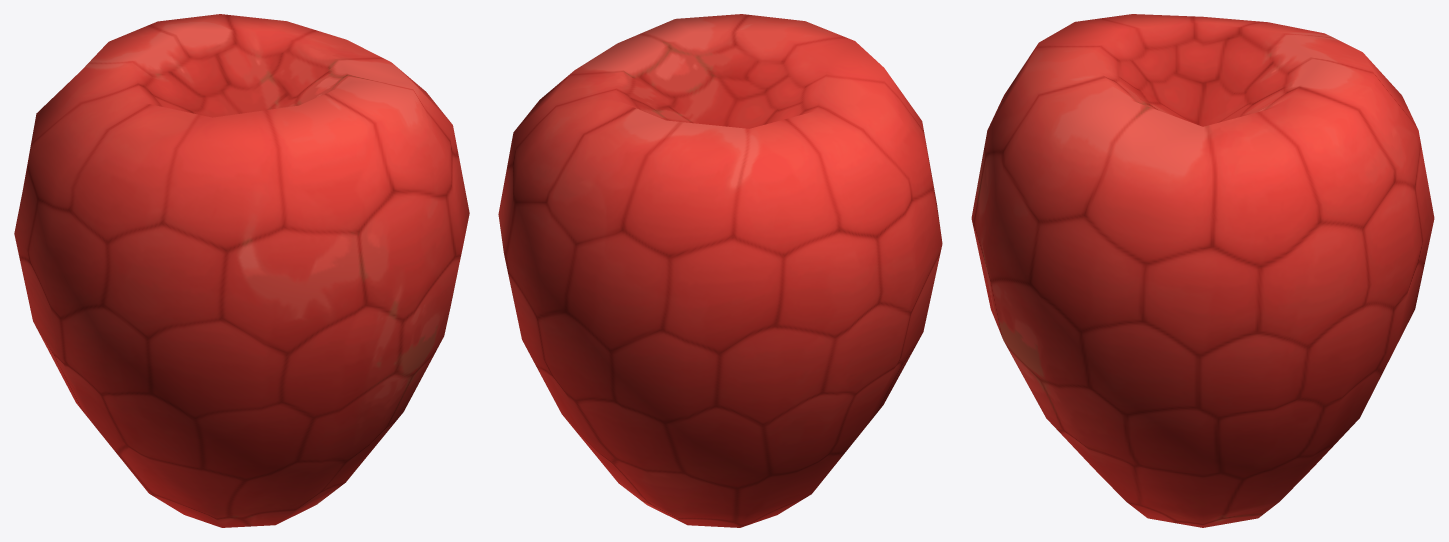
File: SM_RaspberryA.fbx
The picture shows the model from 3 angles, left to right: view 1: azimuth 30°, elevation 25°; view 2: azimuth 150°, elevation 25°; view 3: azimuth 270°, elevation 25°; orthographic projection. The views are drawn at different scales.
Parts seen in each view (by area): view 1: SM_RaspberryA; view 2: SM_RaspberryA; view 3: SM_RaspberryA.
Boxes of the visible parts, <box> form: SM_RaspberryA: <box>14,14,469,527</box>; SM_RaspberryA: <box>498,14,942,527</box>; SM_RaspberryA: <box>971,14,1434,527</box>.
Bounding box in the file's own units: 5.59 × 6.03 × 5.59.
